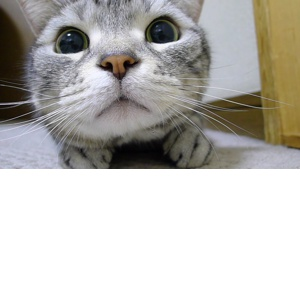dog: (0, 0, 283, 221)
